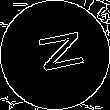N_W: (26, 30, 84, 80)
